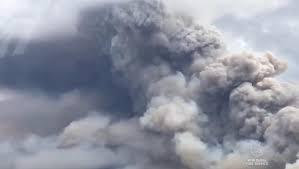smoke: (57, 2, 299, 156)
